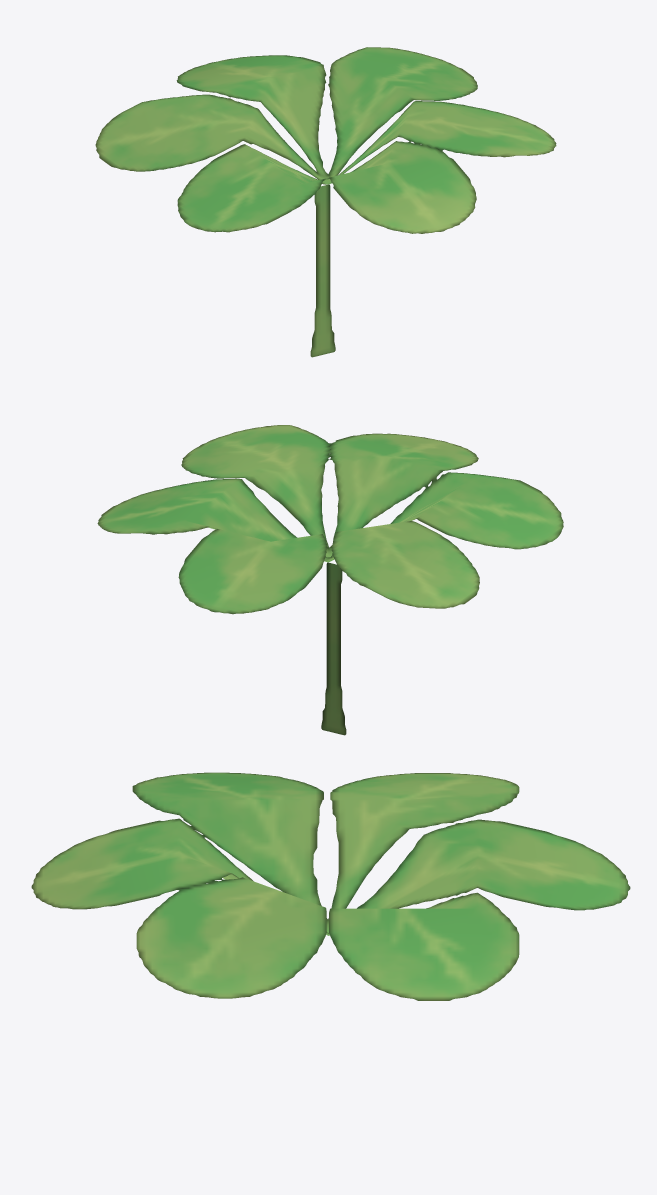
File: LeafSetG_7.fbx
3 views of the same model, one above another, from view 1: azimuth 30°, elevation 25°; view 2: azimuth 150°, elevation 25°; view 3: azimuth 270°, elevation 25° (orthographic). The views are drawn at different scales.
Parts seen in each view (by area): view 1: LeafSetG_7; view 2: LeafSetG_7; view 3: LeafSetG_7.
Boxes of the visible parts, x1,y1,x2,y2 form: LeafSetG_7: [95, 47, 556, 357]; LeafSetG_7: [97, 425, 563, 735]; LeafSetG_7: [31, 772, 630, 1000].
Bounding box in the file's own units: 0.2048 × 0.1177 × 0.2239.
